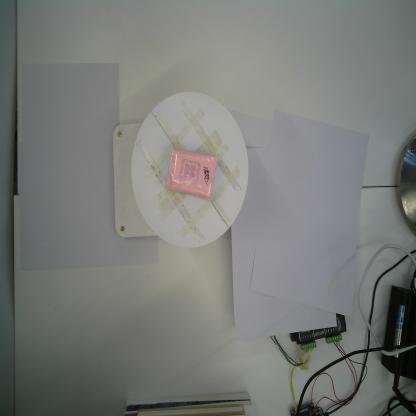Tissue: (164, 147, 218, 201)
